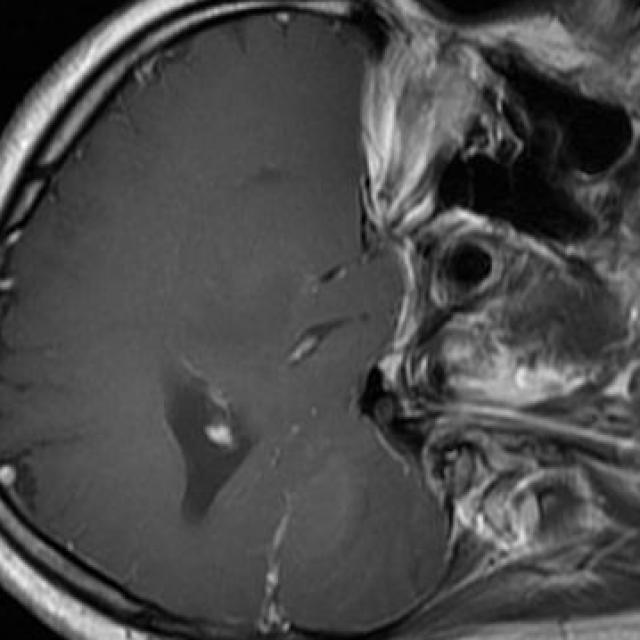glioma: (164, 358, 255, 526)
